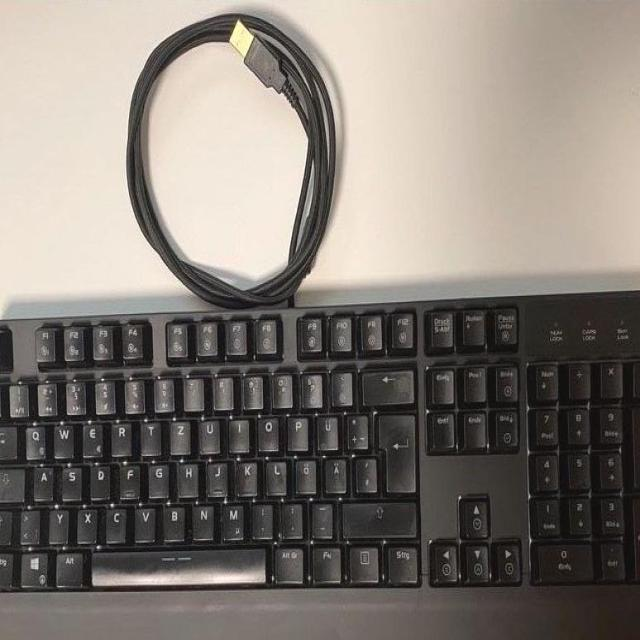0: (268, 368, 291, 406)
1: (6, 379, 27, 415)
2: (34, 378, 56, 414)
3: (63, 375, 84, 413)
4: (92, 374, 114, 412)
5: (122, 374, 143, 410)
6: (151, 372, 173, 409)
7: (181, 373, 202, 408)
8: (210, 372, 232, 407)
9: (239, 370, 261, 406)
a: (31, 461, 52, 498)
accent: (328, 367, 351, 403)
ae: (321, 452, 345, 491)
alt-left: (53, 545, 81, 582)
altgr-right: (271, 540, 302, 580)
b: (160, 498, 184, 538)
c: (102, 500, 125, 539)
caret: (0, 379, 10, 414)
comma: (249, 497, 271, 535)
d: (87, 460, 108, 496)
del: (358, 366, 412, 402)
e: (79, 416, 101, 454)
enter: (373, 407, 414, 490)
f: (117, 458, 138, 496)
g: (145, 457, 167, 495)
h: (174, 456, 197, 493)
hash: (352, 450, 375, 490)
i: (225, 413, 247, 449)
j: (203, 456, 226, 493)
k: (233, 455, 256, 492)
keyboard: (0, 284, 640, 601)
l: (263, 454, 285, 492)
less: (16, 503, 37, 540)
m: (219, 497, 243, 538)
minus: (308, 496, 331, 534)
n: (190, 498, 213, 537)
o: (254, 410, 277, 449)
oe: (292, 453, 314, 491)
p: (284, 410, 307, 448)
plus: (343, 408, 366, 446)
point: (278, 497, 301, 534)
q: (22, 420, 44, 456)
r: (108, 417, 131, 453)
s: (58, 461, 80, 498)
shift-left: (0, 507, 14, 542)
shift-lock: (0, 464, 22, 497)
shift-right: (339, 496, 414, 534)
space: (87, 542, 265, 583)
ss: (298, 368, 321, 406)
strg-left: (0, 548, 14, 583)
strg-right: (383, 539, 417, 581)
t: (137, 415, 159, 451)
tab: (0, 421, 17, 456)
u: (195, 414, 218, 450)
ue: (314, 409, 337, 448)
v: (131, 500, 154, 538)
w: (50, 417, 72, 455)
x: (74, 502, 96, 539)
y: (45, 503, 67, 540)
z: (167, 415, 189, 451)
